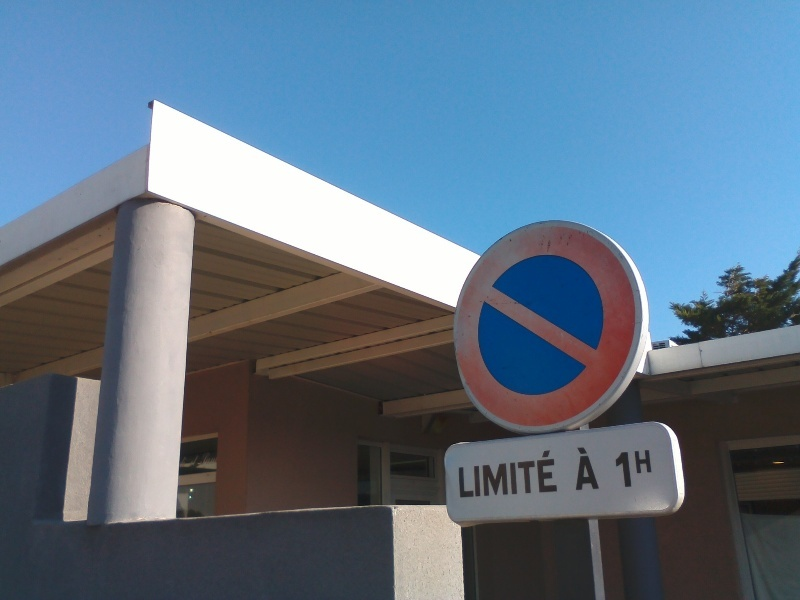text: (465, 449, 480, 501), (481, 449, 496, 501), (497, 449, 512, 501), (513, 449, 528, 501), (529, 449, 544, 501), (545, 449, 559, 501), (577, 446, 592, 491), (625, 449, 640, 489), (641, 449, 654, 489), (593, 446, 601, 491), (615, 449, 624, 489), (458, 449, 464, 501), (193, 452, 208, 469), (181, 452, 192, 469), (209, 452, 217, 469)
